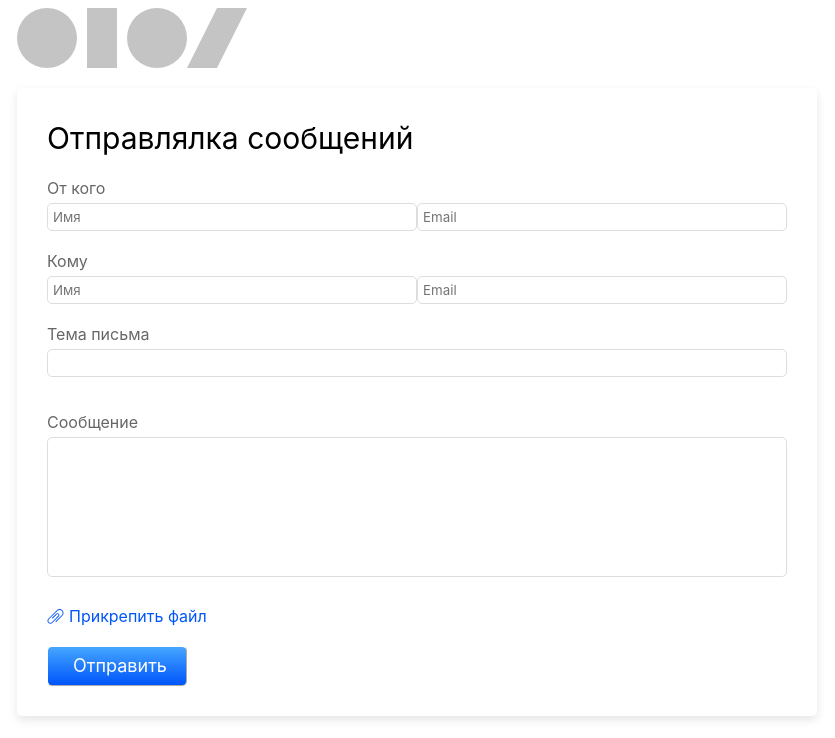
Test: Тестируем форму отправки email › Проверка полей и функционала добавления файлов › При попытке отправить сообщение с незаполненными полями в каждом появляется ошибка
Click the submit button: (117, 666) [47,646,187,686]
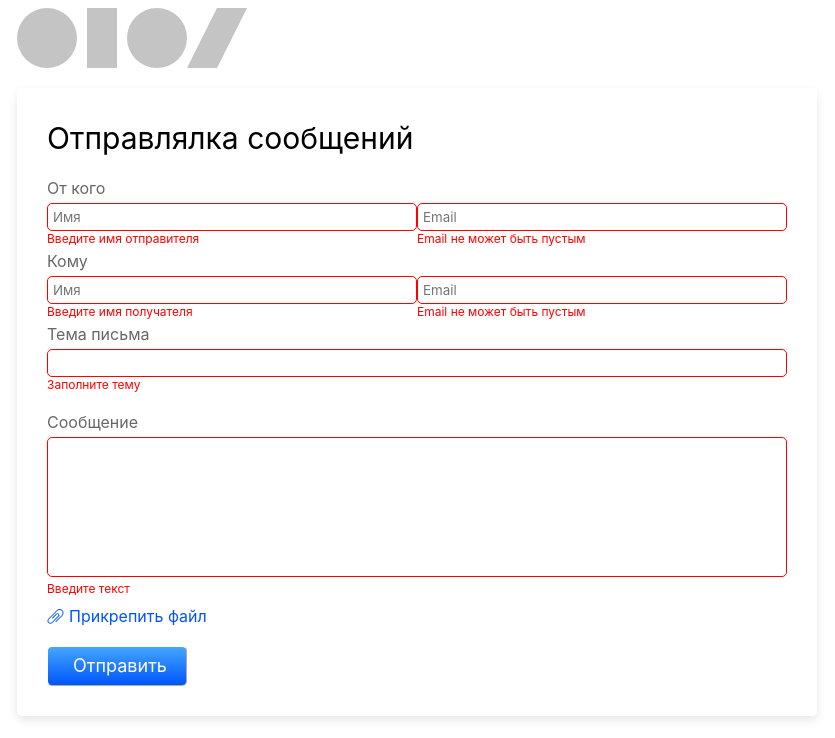
Expected: the text "Введите имя отправителя" is shown, [47,231,199,246]
Expected: the text "Email не может быть пустым" in the row of "Введите имя отправителя" is shown, [417,231,586,246]
Expected: the text "Введите имя получателя" is shown, [47,304,192,319]
